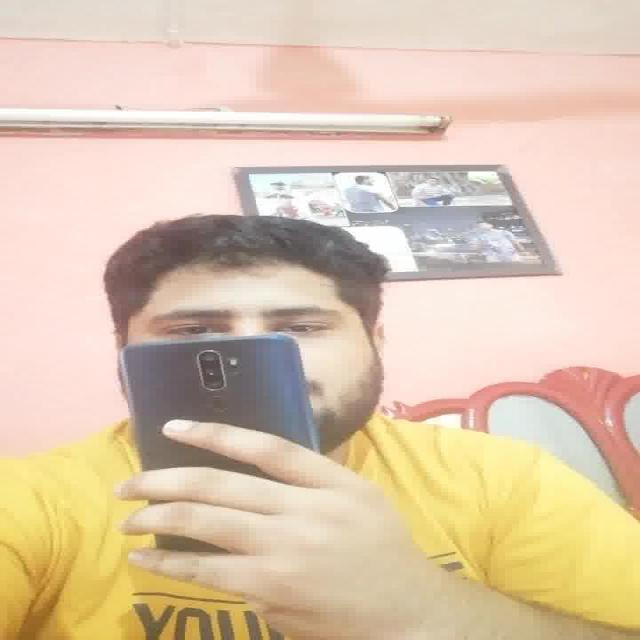Phone: (120, 330, 320, 468)
